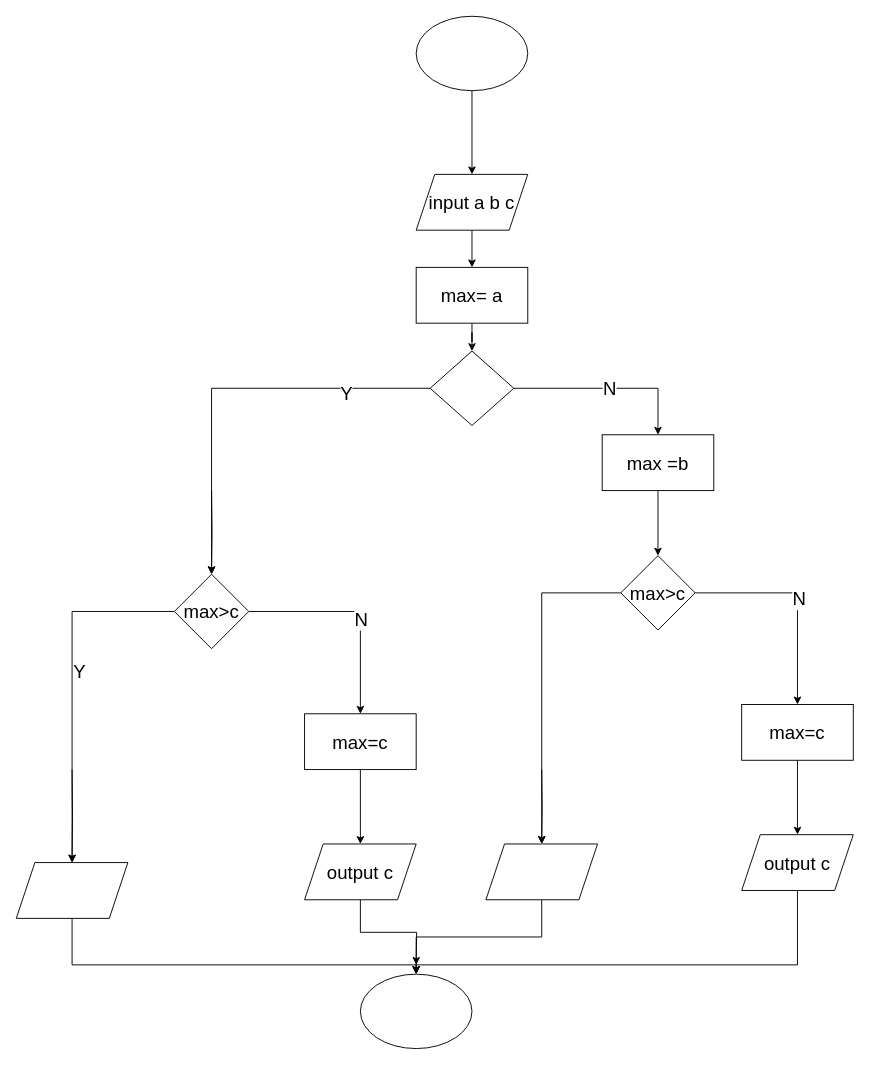
This 870x1065 diagram has some shape labels left out. Each missing label, with the centre of its shape:
"end" belongs at point 415,1011.
"max >b" belongs at point 471,387.
"output a" belongs at point 71,890.
"output b" belongs at point 541,871.
"start" belongs at point 471,53.
